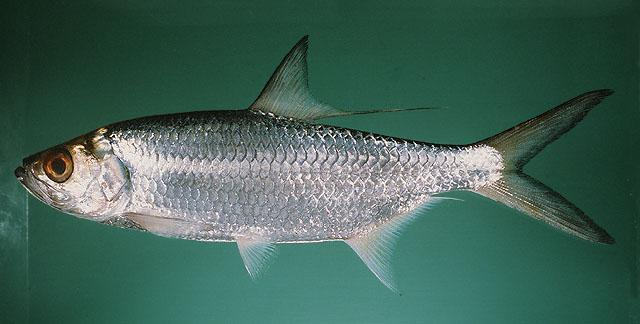Mulut: (8, 148, 50, 200)
Sirip Anal: (346, 196, 464, 294)
Sirip Dada: (120, 204, 218, 245)
Sirip Ekor: (478, 81, 622, 250)
Sirip Perut: (232, 228, 288, 288)
Sirip Punggung: (252, 26, 456, 132)
